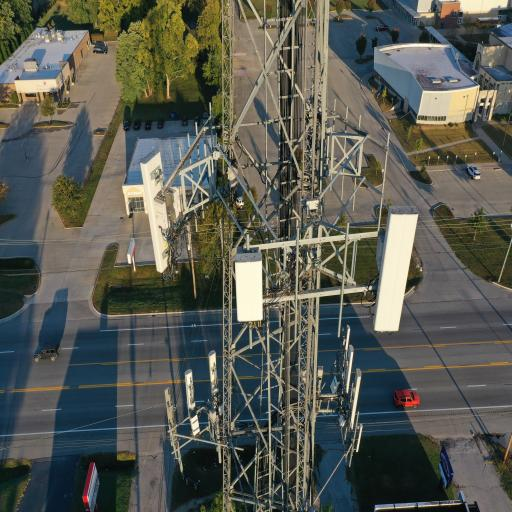supporting_tower: (124, 0, 445, 512)
